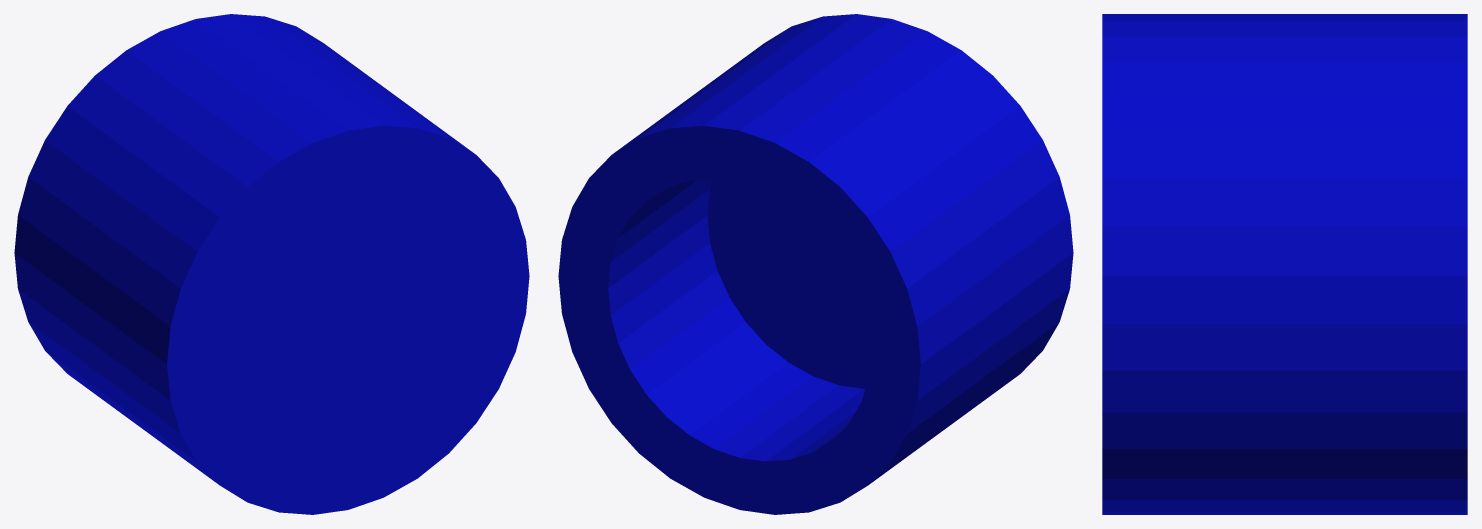
Rendered from piston.obj.
3 views of the same model, side by side, from view 1: azimuth 30°, elevation 25°; view 2: azimuth 150°, elevation 25°; view 3: azimuth 270°, elevation 25° (orthographic). The views are drawn at different scales.
Parts seen in each view (by area): view 1: cylinder_head_Cylinder.003; view 2: cylinder_head_Cylinder.003; view 3: cylinder_head_Cylinder.003.
Part boxes in pixels (bbox=[...]): cylinder_head_Cylinder.003: bbox=[14, 14, 529, 514]; cylinder_head_Cylinder.003: bbox=[558, 14, 1073, 514]; cylinder_head_Cylinder.003: bbox=[1102, 14, 1467, 514].
Bounding box in the file's own units: 0.096 × 0.096 × 0.07.
